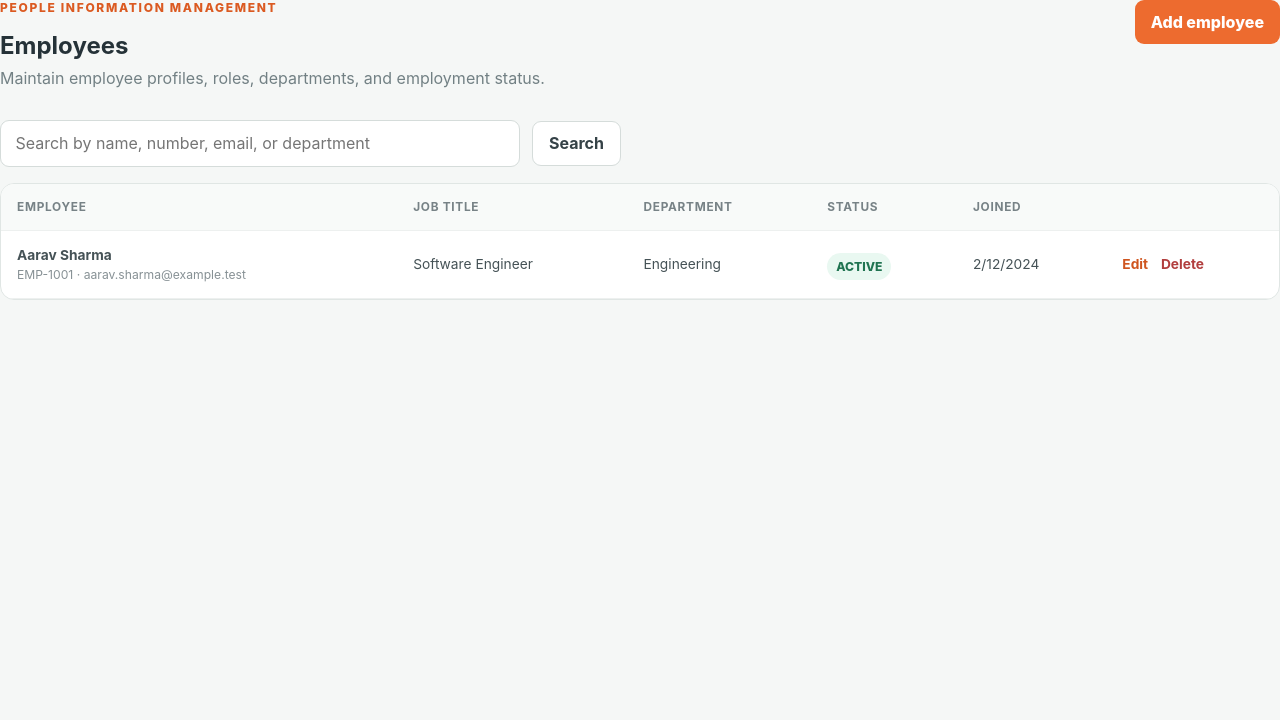
it: EmployeeManager › loads employees and opens the add form
Click the button "Add employee".
click(1207, 22)  # box top-left (1135, 0), bottom-right (1279, 44)
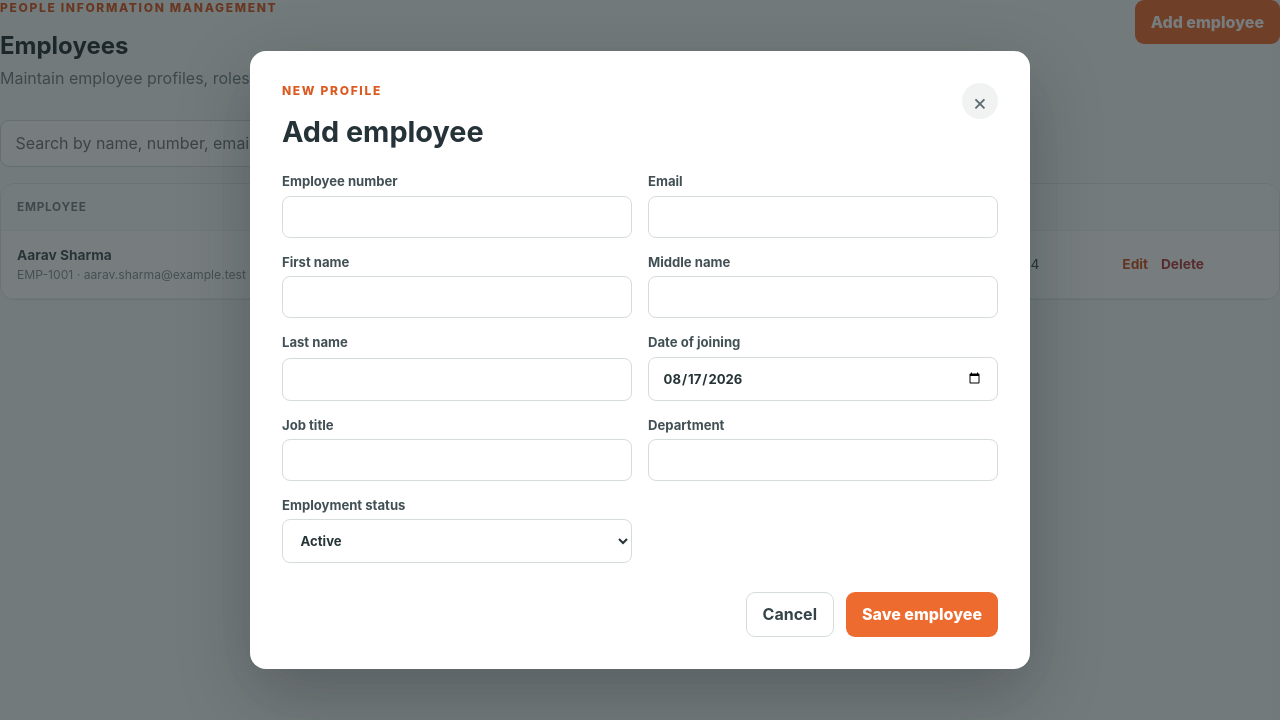
Expected: the form with class "employee-form" is shown, top-left (250, 51), bottom-right (1030, 668)
